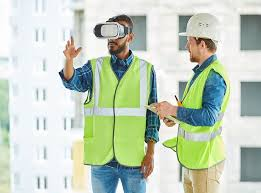hard hat: (179, 14, 222, 41)
high-vis: (83, 55, 151, 165), (176, 59, 231, 169)
